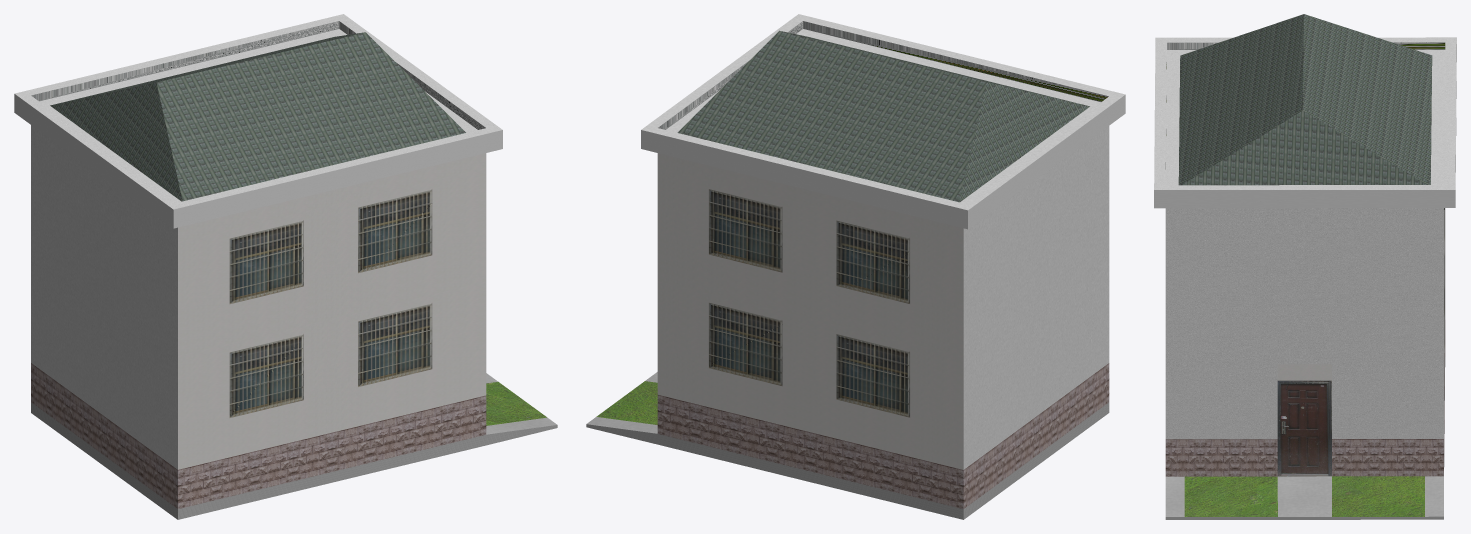
The picture shows the model from 3 angles, left to right: view 1: azimuth 30°, elevation 25°; view 2: azimuth 150°, elevation 25°; view 3: azimuth 270°, elevation 25°; orthographic projection. The views are drawn at different scales.
Visible parts, largest first — view 1: jz8; view 2: jz8; view 3: jz8.
Boxes of the visible parts, box(x1,y1,x2,y2) form: jz8: box(14, 14, 557, 519); jz8: box(586, 14, 1125, 519); jz8: box(1154, 14, 1456, 519).
Bounding box in the file's own units: 1077 × 982 × 762.
8 materials, 8 textured.
